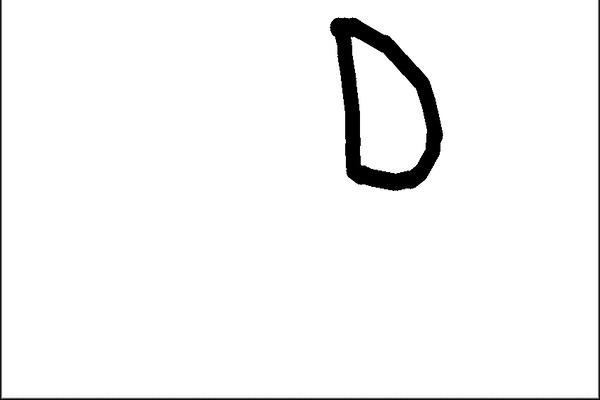D: (325, 11, 447, 195)
